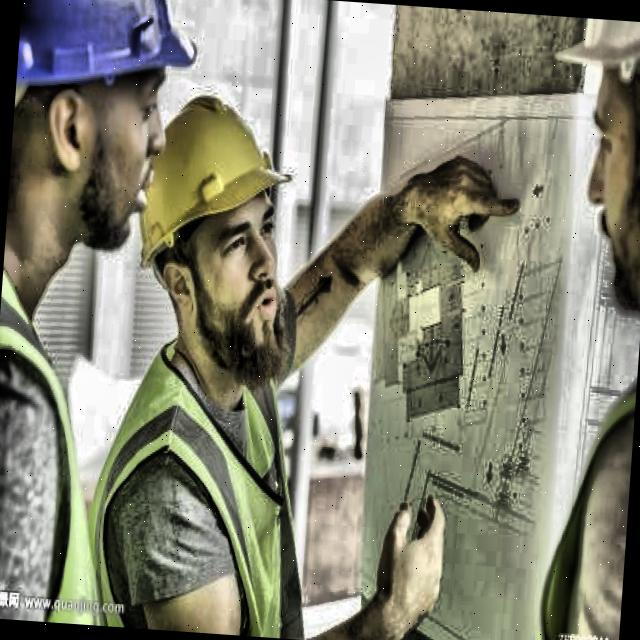helmet: (3, 0, 217, 297), (122, 66, 308, 388), (532, 17, 640, 339)
